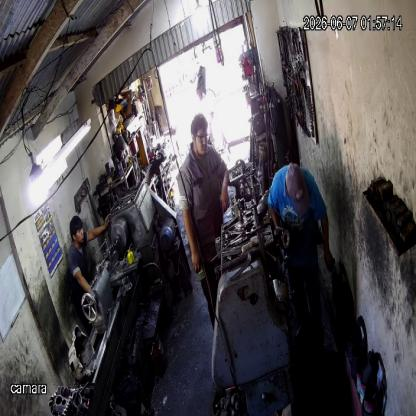sin_lentes: (74, 226, 85, 236)
